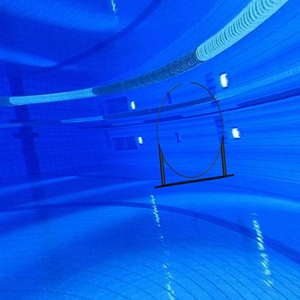circle: (154, 80, 236, 194)
